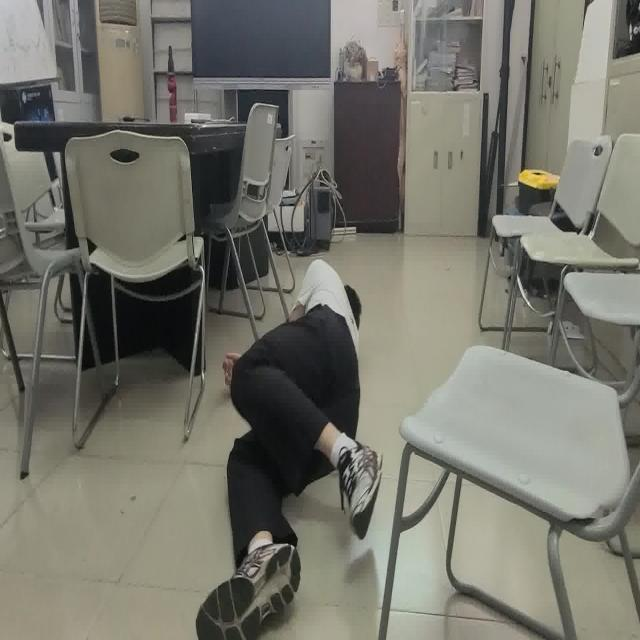fall: (198, 257, 383, 640)
